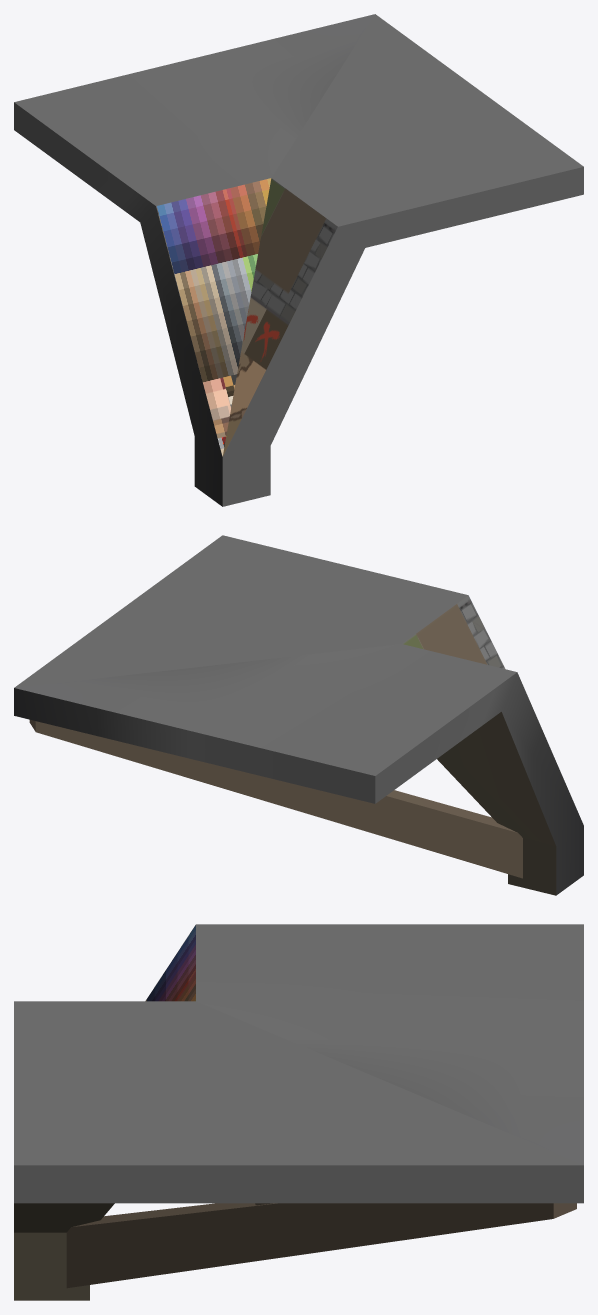
Rendered from kingdom_SM_Bld_Castle_Roof_M_Corner_Inner_Half_01.gltf.
The picture shows the model from 3 angles, top to bottom: view 1: azimuth 30°, elevation 25°; view 2: azimuth 150°, elevation 25°; view 3: azimuth 270°, elevation 25°; orthographic projection. The views are drawn at different scales.
Parts seen in each view (by area): view 1: SM_Bld_Castle_Roof_M_Corner_Inner_Half_01; view 2: SM_Bld_Castle_Roof_M_Corner_Inner_Half_01; view 3: SM_Bld_Castle_Roof_M_Corner_Inner_Half_01.
Part boxes in pixels (<box>): SM_Bld_Castle_Roof_M_Corner_Inner_Half_01: <box>14,14,583,506</box>; SM_Bld_Castle_Roof_M_Corner_Inner_Half_01: <box>14,535,583,895</box>; SM_Bld_Castle_Roof_M_Corner_Inner_Half_01: <box>14,924,583,1300</box>.
Size of the model in its own units: 3.75 by 2.5 by 3.75.
Materials: 2 (2 with a texture image).
